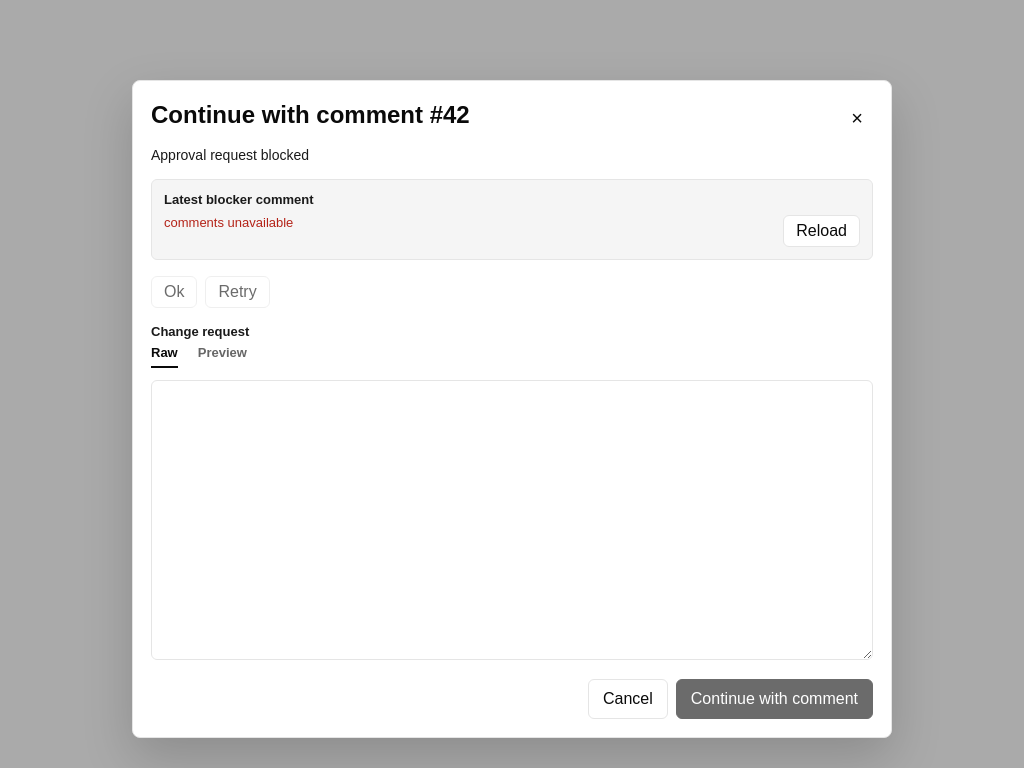
Test case: ResolveIssueDialog › keeps submissions disabled and allows retrying when blocker loading fails
Expected: the message reads "comments unavailable", [164,215,293,230]
Expected: the button "Retry" is disabled, [206,276,270,308]
Click the button "Reload" at {"x": 822, "y": 231}, box [783,215,860,247]
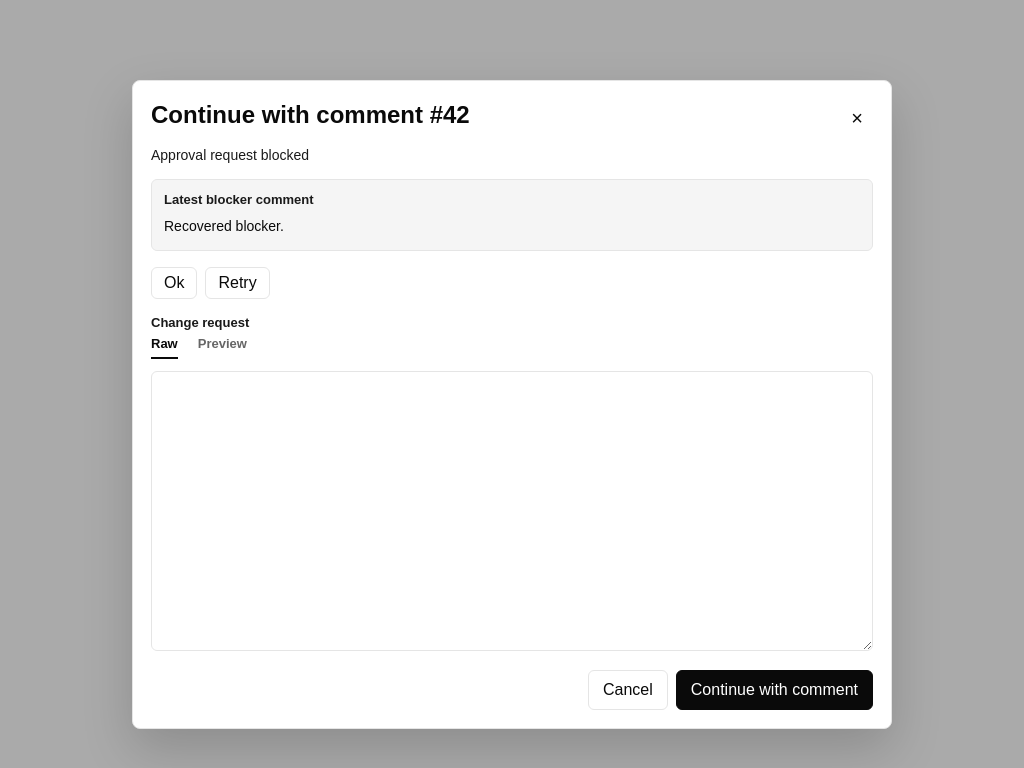
Now the text "Recovered blocker." is shown, box [164,218,284,234]
Now the button "Retry" is enabled, box [206,267,270,299]
